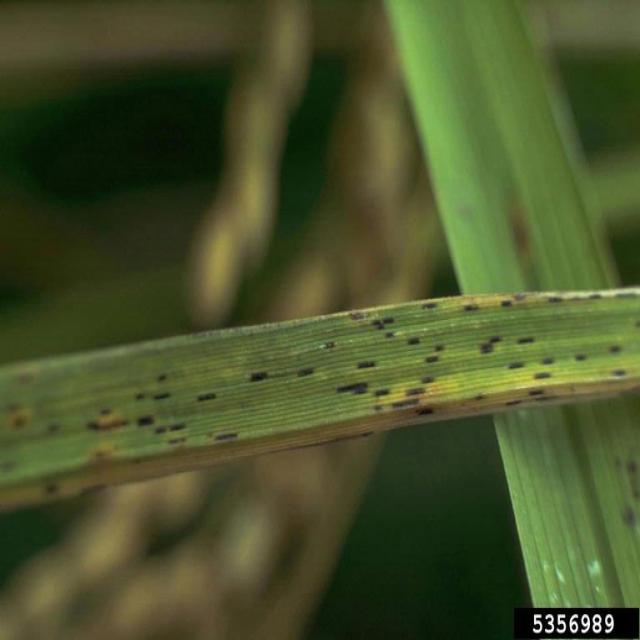Brown spot: (505, 182, 541, 267), (2, 391, 34, 438), (540, 292, 640, 306), (81, 405, 124, 437), (194, 381, 224, 412), (244, 364, 274, 394), (335, 374, 370, 399), (34, 473, 64, 502), (294, 360, 324, 388), (366, 310, 397, 336), (146, 360, 174, 387), (620, 501, 638, 542), (610, 443, 626, 487), (135, 408, 157, 438), (167, 417, 190, 445), (472, 334, 504, 354), (355, 351, 381, 373), (405, 321, 424, 351), (416, 294, 441, 316), (516, 328, 541, 349), (603, 338, 629, 356), (497, 296, 518, 318), (461, 297, 482, 318), (46, 420, 68, 440), (419, 347, 438, 369), (536, 364, 559, 382), (630, 447, 640, 488), (574, 343, 589, 367), (471, 389, 492, 406), (610, 366, 632, 382), (376, 380, 393, 400), (416, 405, 442, 418), (507, 358, 528, 373), (536, 353, 560, 366), (405, 386, 436, 396), (212, 434, 246, 443), (436, 341, 454, 354)
